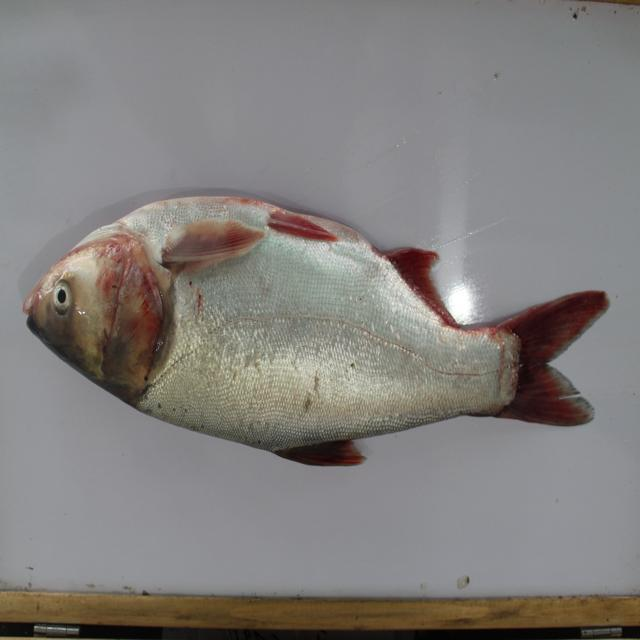SilverCarp: (25, 193, 605, 462)
